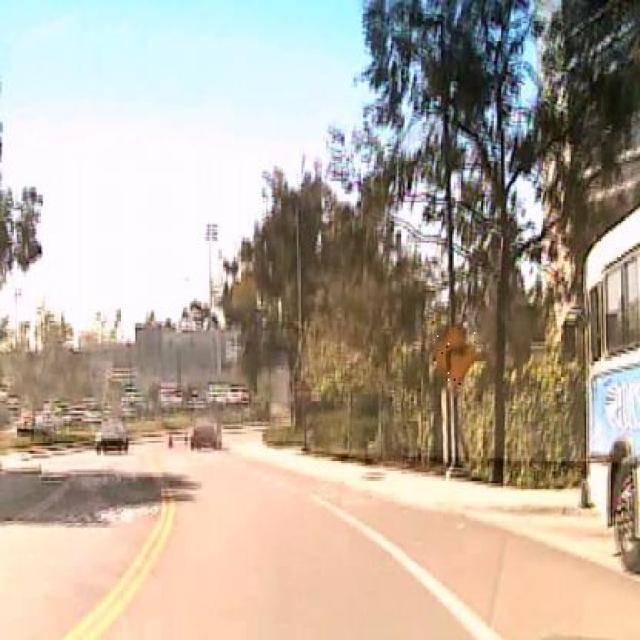turnRight: (434, 326, 478, 388)
